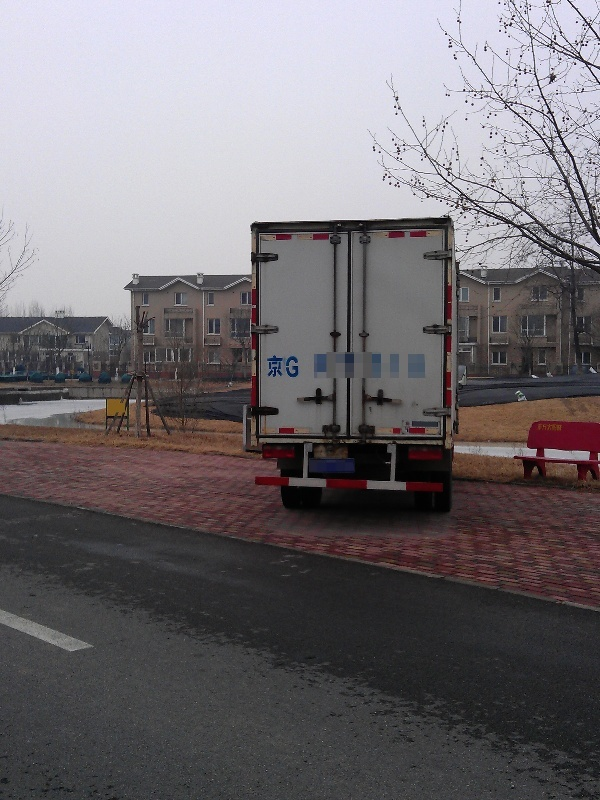text: (273, 355, 288, 379), (289, 355, 301, 379), (266, 355, 272, 379), (545, 424, 560, 432), (538, 424, 544, 432), (561, 424, 563, 432)
